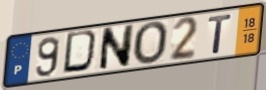2: (169, 15, 200, 64)
9: (34, 35, 61, 78)
D: (61, 28, 102, 75)
N: (97, 22, 137, 73)
O: (132, 20, 170, 67)
T: (206, 13, 233, 56)
